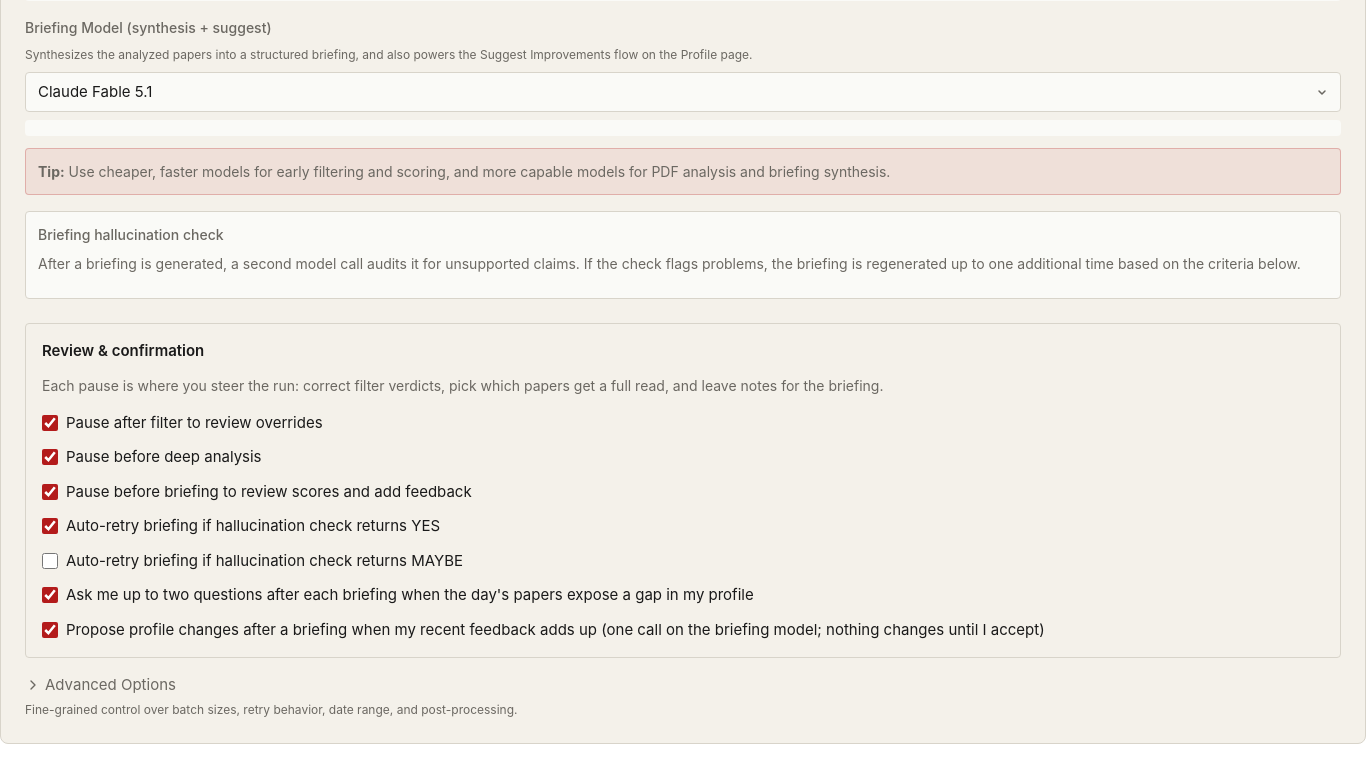
Test: SettingsPanel — Remove duplicate papers toggle › renders a descriptive helper text about the 90-day window
(page scrolled)
Click the button "Advanced Options": (100, 685) x1=25 y1=674 x2=176 y2=696
(page scrolled)
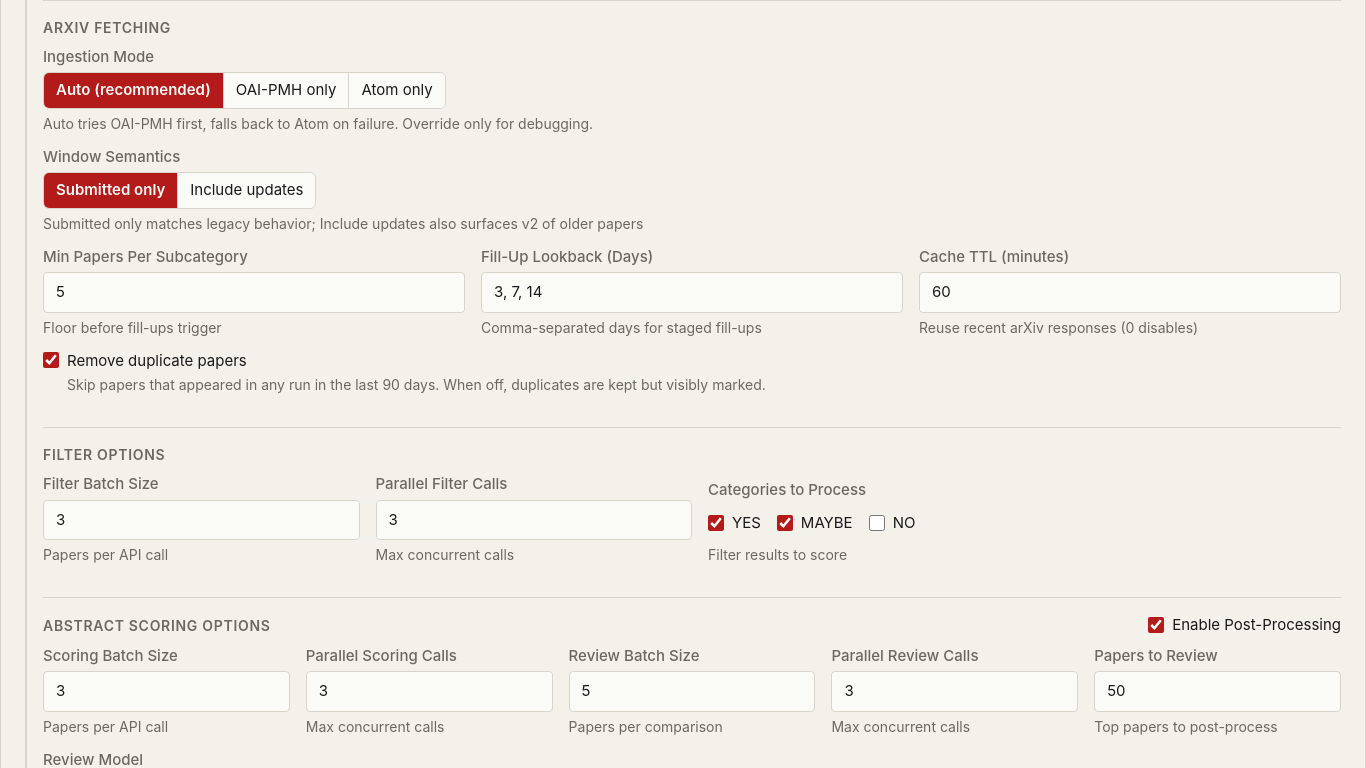
expect the text "last 90 days" is shown: met, box x1=67 y1=376 x2=766 y2=393
